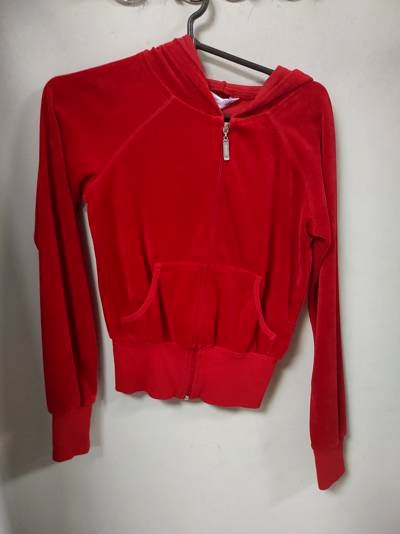Hoodie: (4, 36, 382, 492)
